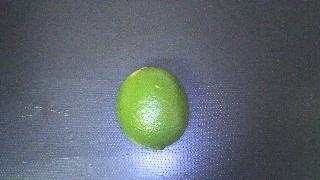EXPORTACION: (116, 67, 189, 152)
